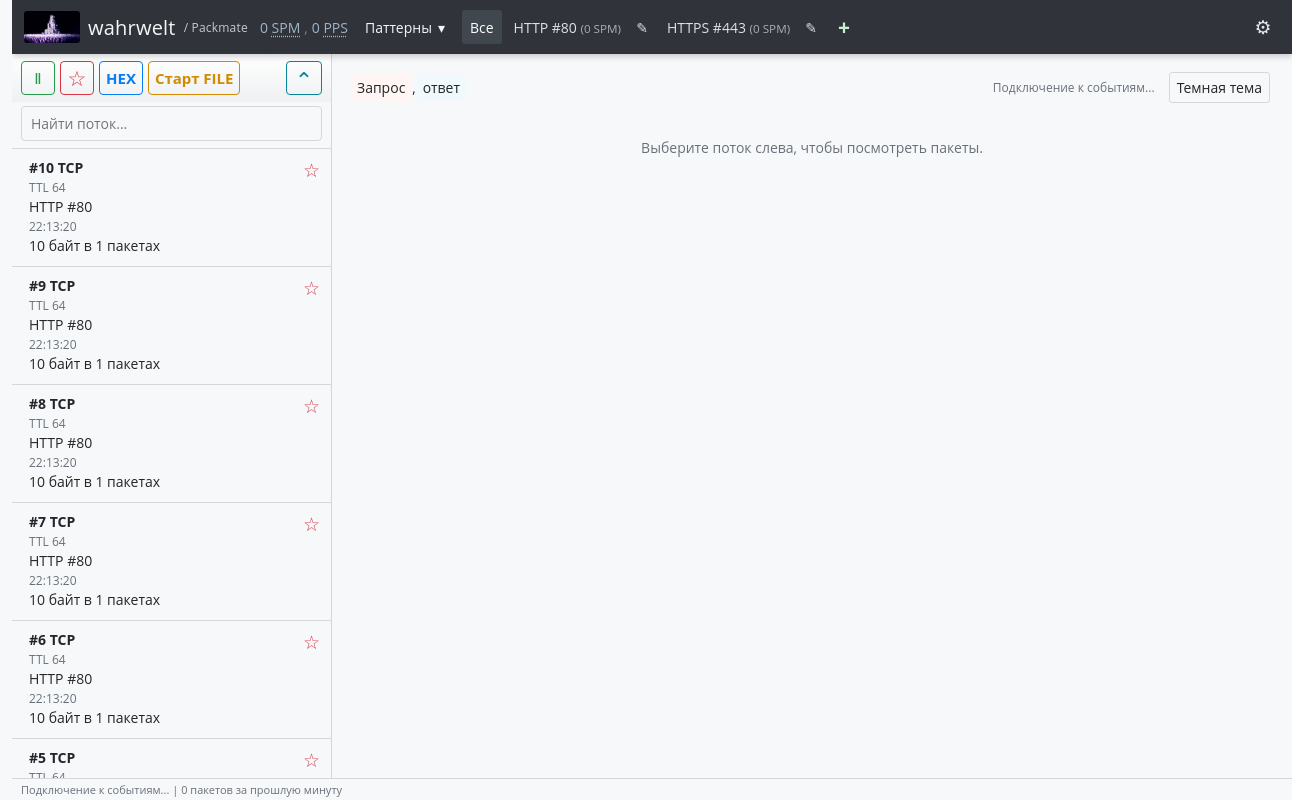
Test case: смена выборки во время загрузки › отменяет позднюю дополнительную страницу пакетов после выбора другого потока
This screenshot has width=1292, height=800.
Click the button "#10 TCP TTL 64 HTTP #80 22:13:20 10 байт в 1 пакетах".
click(46, 207)  # box left=12, top=149, right=331, bottom=266
(page scrolled)
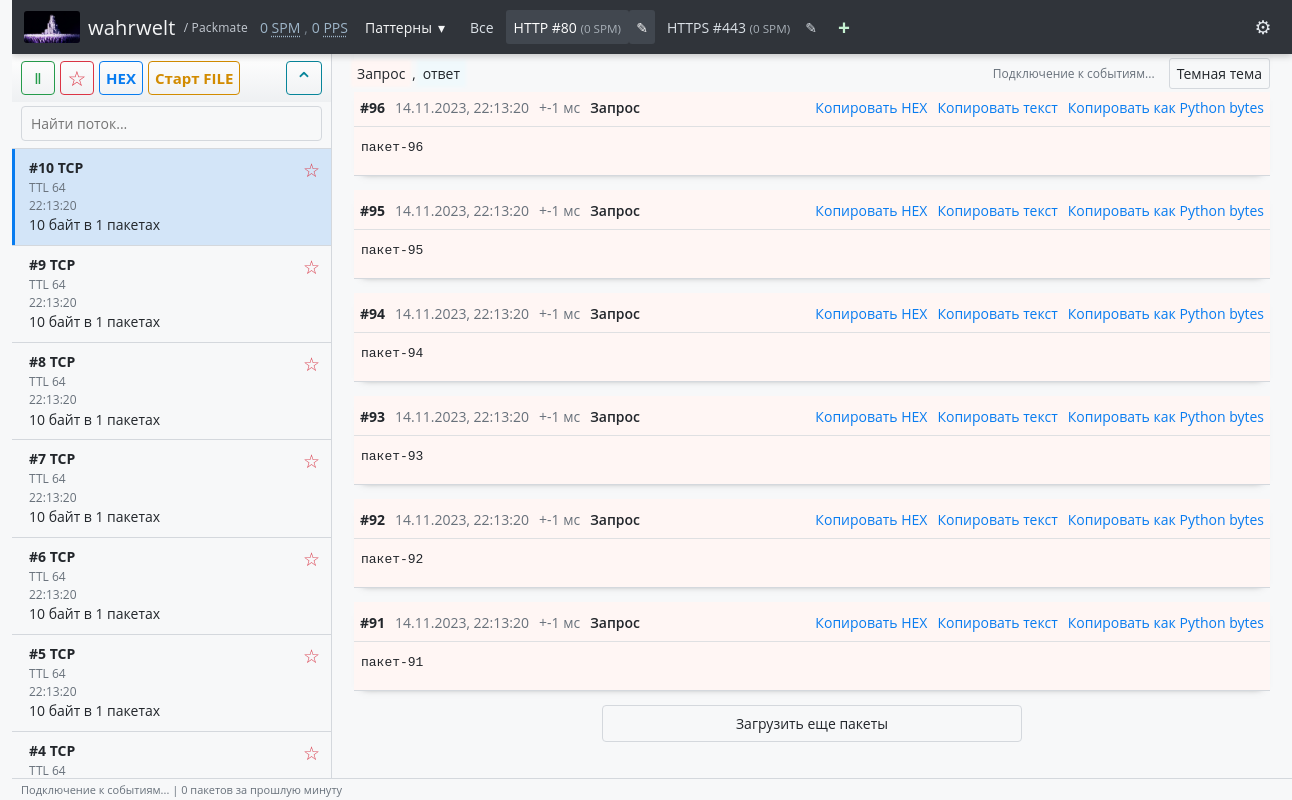
Click the button "Загрузить еще пакеты".
click(812, 724)  # box left=602, top=705, right=1022, bottom=742
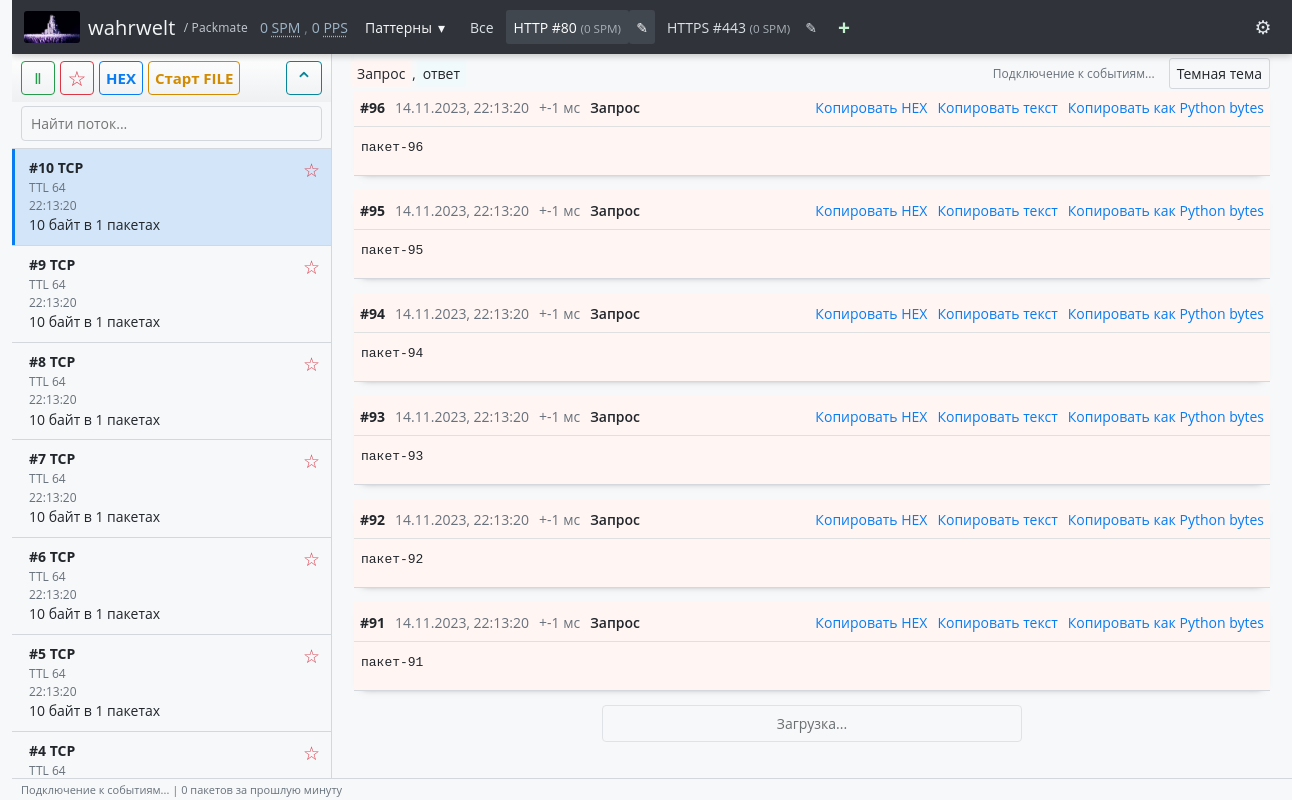
Click the button "#9 TCP TTL 64 22:13:20 10 байт в 1 пакетах".
click(53, 303)  # box left=12, top=246, right=331, bottom=342
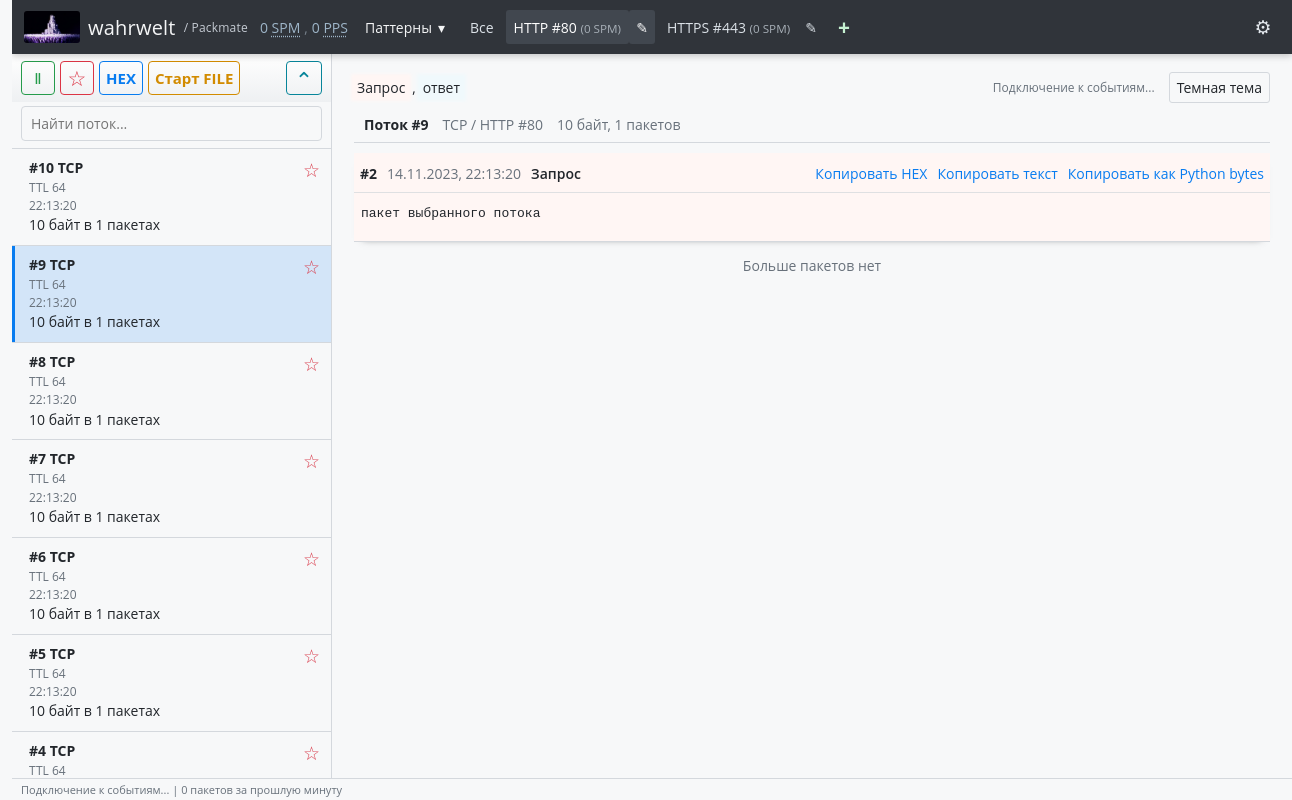
Expected: the text "пакет выбранного потока" is shown, left=361, top=206, right=540, bottom=221
